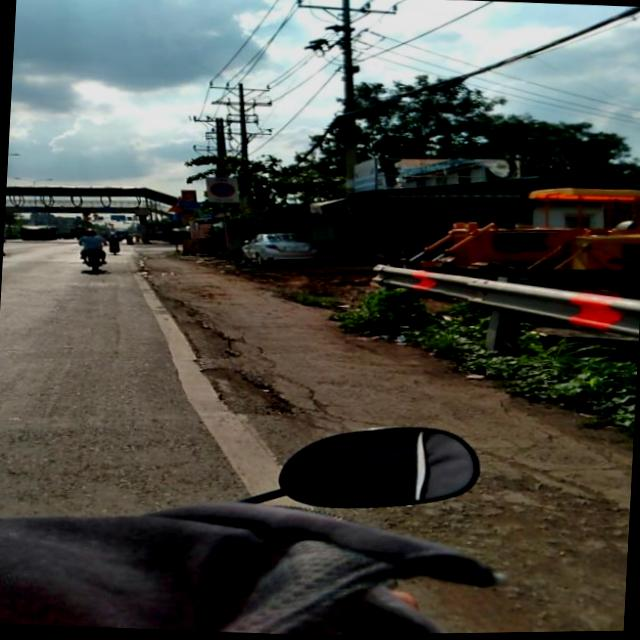Cam dung xe va do xe: (208, 182, 236, 199)
